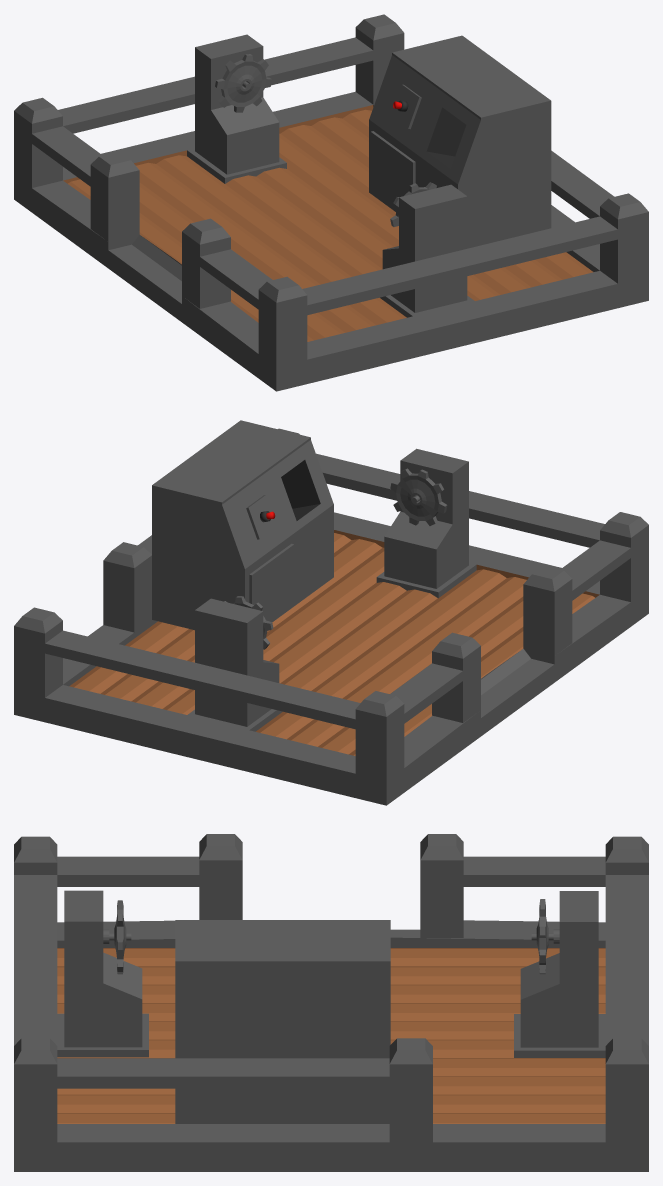
Rendered from Elevator.fbx.
3 views of the same model, one above another, from view 1: azimuth 30°, elevation 25°; view 2: azimuth 150°, elevation 25°; view 3: azimuth 270°, elevation 25° (orthographic). The views are drawn at different scales.
Visible parts, largest first — view 1: Plane.009, Plane, Cylinder.004, Plane.007; view 2: Plane.009, Plane, Cylinder.005, Plane.007; view 3: Plane.009, Plane, Cylinder.004, Cylinder.005.
Part boxes in pixels (<box>): Plane.009: <box>14,14,648,391</box>; Plane: <box>369,35,551,248</box>; Cylinder.004: <box>215,54,271,112</box>; Plane.007: <box>390,84,421,129</box>; Plane.009: <box>14,428,648,805</box>; Plane: <box>152,420,333,630</box>; Cylinder.005: <box>390,468,447,525</box>; Plane.007: <box>246,495,277,539</box>; Plane.009: <box>14,834,648,1171</box>; Plane: <box>175,920,390,1123</box>; Cylinder.004: <box>536,899,548,974</box>; Cylinder.005: <box>114,900,126,974</box>.
Bounding box in the file's own units: 152 × 61.85 × 185.
